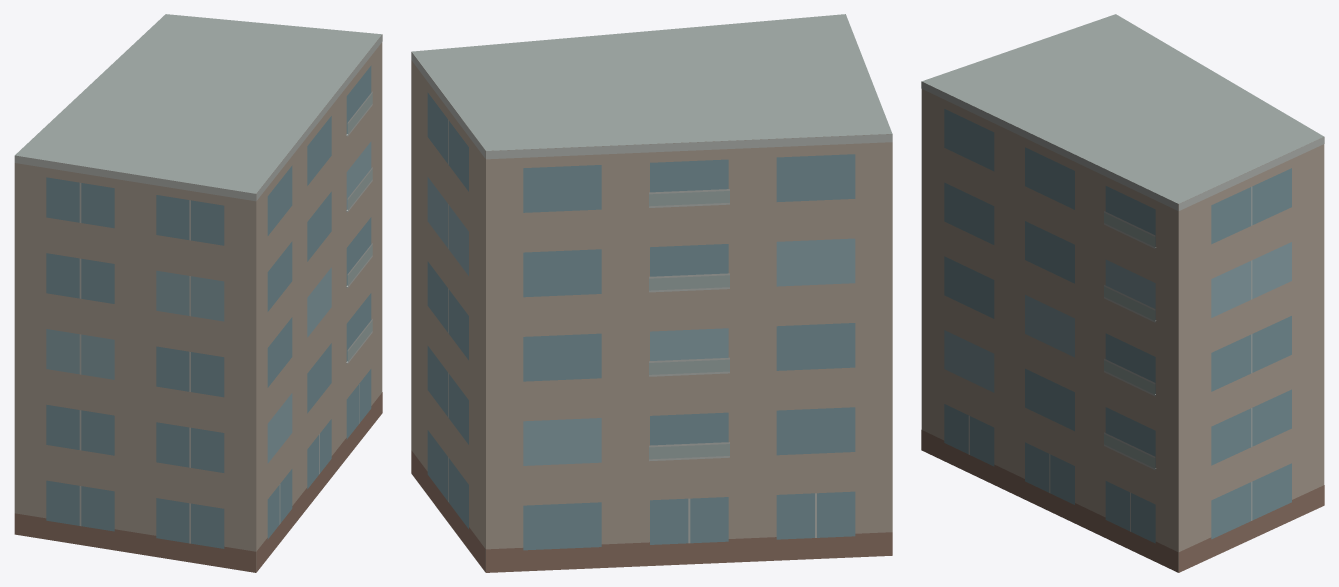
File: survey-upis-32846348.glb
The picture shows the model from 3 angles, left to right: view 1: azimuth 30°, elevation 25°; view 2: azimuth 150°, elevation 25°; view 3: azimuth 270°, elevation 25°; orthographic projection. The views are drawn at different scales.
Visible parts, largest first — view 1: survey-upis-32846348.tmp; view 2: survey-upis-32846348.tmp; view 3: survey-upis-32846348.tmp.
Boxes of the visible parts, bbox=[...] form: survey-upis-32846348.tmp: bbox=[14, 14, 382, 572]; survey-upis-32846348.tmp: bbox=[411, 14, 892, 572]; survey-upis-32846348.tmp: bbox=[921, 14, 1324, 572].
Size of the model in its own units: 13.65 by 12.35 by 12.23.
